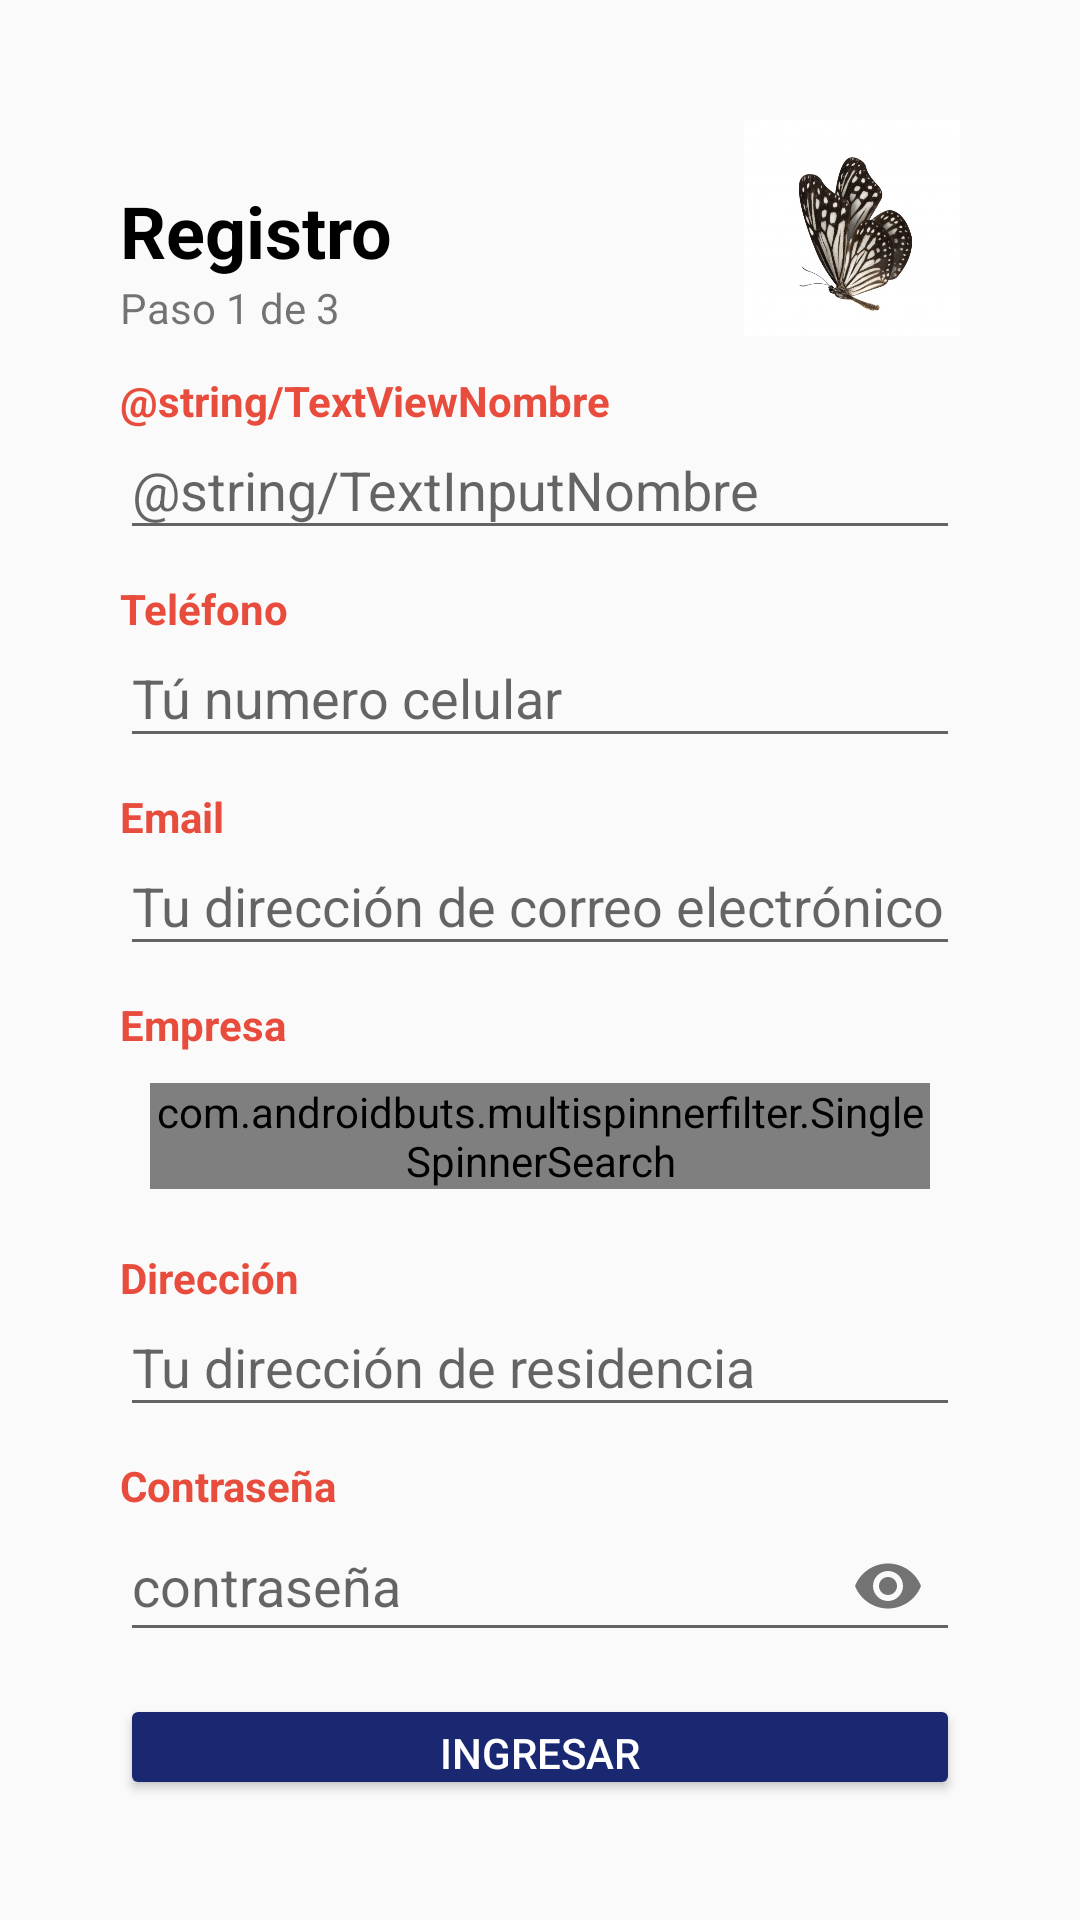

Named icons in this screenshot (1080 × 1920) and their centers, [x,y]:
mariposa: [855,234]
